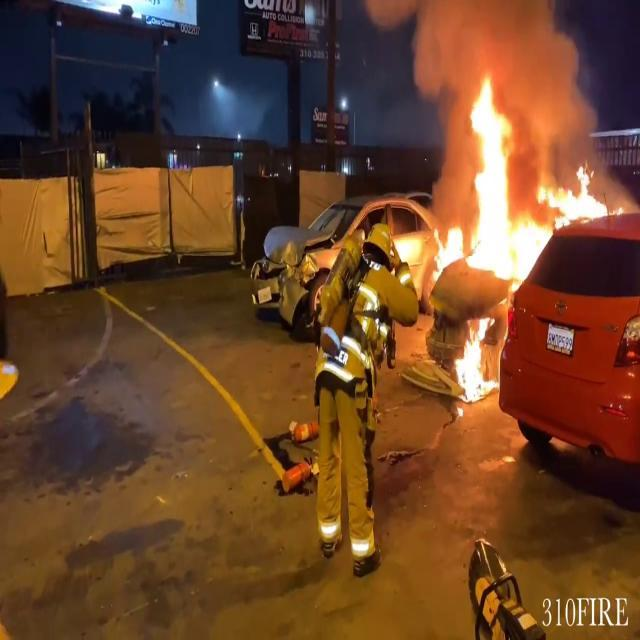Fire: (406, 70, 618, 287), (451, 314, 492, 402)
Smoke: (386, 2, 603, 128)
